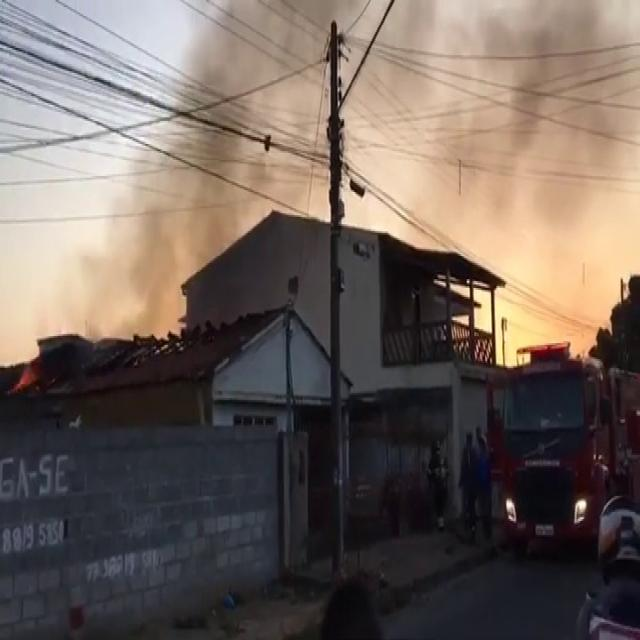Smoke: (111, 30, 640, 341)
